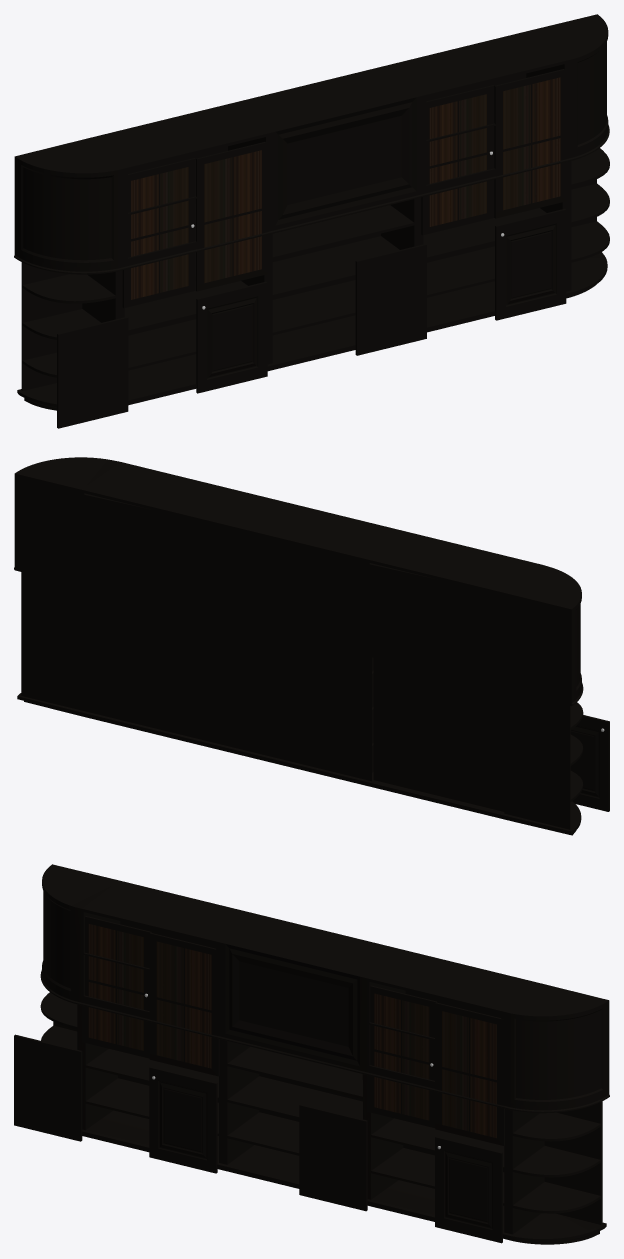
File: шкаф муз.FBX
The picture shows the model from 3 angles, top to bottom: view 1: azimuth 30°, elevation 25°; view 2: azimuth 150°, elevation 25°; view 3: azimuth 330°, elevation 25°; orthographic projection. The views are drawn at different scales.
Visible parts, largest first — view 1: Plane043, Object129, Object127, Object128, Object126, Object130, Object125, Object132, Object131; view 2: Plane043, Object125; view 3: Plane043, Object127, Object129, Object128, Object126, Object125, Object131, Object130, Object132.
Boxes of the visible parts, left/top/right/bottom form: Plane043: left=14, top=14, right=609, bottom=410; Object129: left=494, top=69, right=567, bottom=218; Object127: left=196, top=142, right=268, bottom=291; Object128: left=421, top=85, right=494, bottom=235; Object126: left=122, top=158, right=195, bottom=307; Object130: left=196, top=281, right=267, bottom=393; Object125: left=57, top=316, right=128, bottom=428; Object132: left=495, top=208, right=566, bottom=320; Object131: left=355, top=244, right=426, bottom=355; Plane043: left=14, top=457, right=583, bottom=835; Object125: left=570, top=715, right=609, bottom=811; Plane043: left=40, top=864, right=609, bottom=1244; Object127: left=149, top=933, right=219, bottom=1076; Object129: left=435, top=1002, right=504, bottom=1145; Object128: left=367, top=985, right=437, bottom=1127; Object126: left=82, top=916, right=151, bottom=1058; Object125: left=14, top=1034, right=82, bottom=1141; Object131: left=299, top=1104, right=367, bottom=1211; Object130: left=149, top=1066, right=217, bottom=1173; Object132: left=435, top=1136, right=502, bottom=1243.
Bounding box in the file's own units: 5318 × 2104 × 671.
